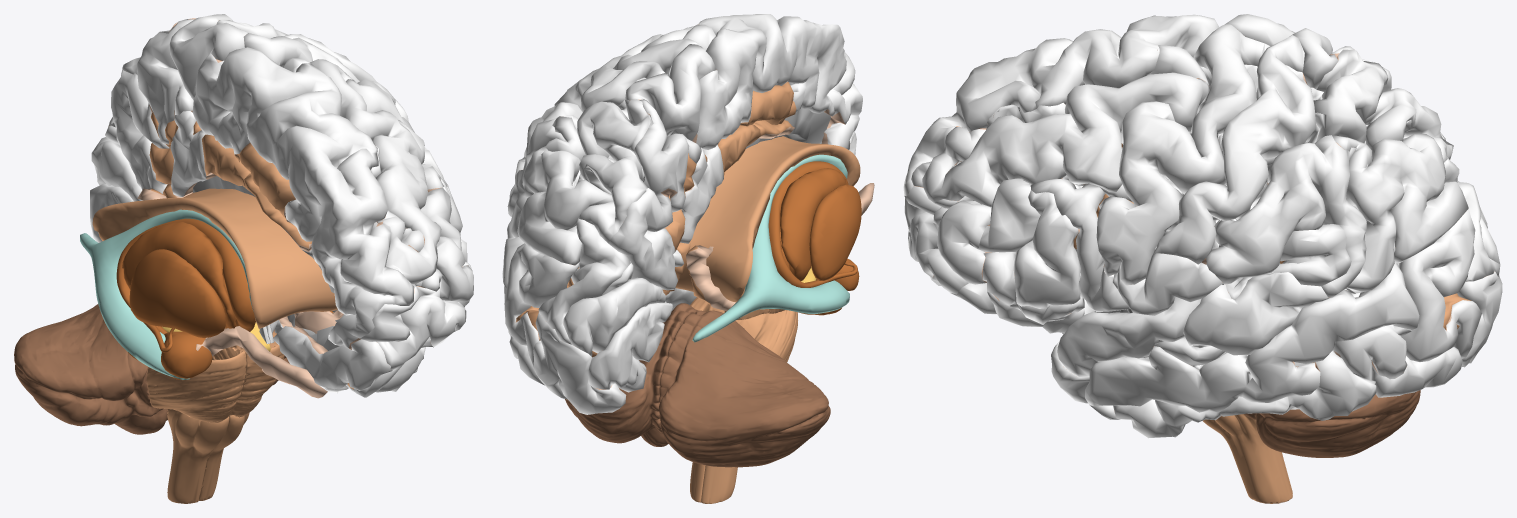
Rendered from brain.glb.
3 renders of one model, left to right at view 1: azimuth 30°, elevation 25°; view 2: azimuth 150°, elevation 25°; view 3: azimuth 270°, elevation 25°, orthographic. The views are drawn at different scales.
Parts seen in each view (by area): view 1: gyrus, Cerebellum.r.002, sulcus, Corpus callosum, Medial geniculate body, Putamen.r.001, Pons.r.002, Medulla oblongata.r.001, Caudate nucleus.r.001, Amygdaloid body.r.001, White matter of telencephalon.r.002; view 2: gyrus, Cerebellum.r.002, Corpus callosum, sulcus, Medial geniculate body, Putamen.r.001, Pons.r.002, Caudate nucleus.r.001, Medulla oblongata.r.001, White matter of telencephalon.r.002; view 3: gyrus, sulcus, Cerebellum.r.002, Medulla oblongata.r.001.
Boxes of the visible parts, box(x1,y1,x2,y2) form: gyrus: box(90, 14, 473, 397); Cerebellum.r.002: box(14, 304, 289, 434); sulcus: box(137, 58, 473, 398); Corpus callosum: box(92, 188, 337, 328); Medial geniculate body: box(80, 209, 252, 379); Putamen.r.001: box(129, 249, 225, 337); Pons.r.002: box(146, 331, 284, 422); Medulla oblongata.r.001: box(167, 409, 249, 503); Caudate nucleus.r.001: box(116, 218, 255, 352); Amygdaloid body.r.001: box(161, 331, 212, 378); White matter of telencephalon.r.002: box(192, 176, 339, 350); gyrus: box(502, 14, 862, 414); Cerebellum.r.002: box(565, 303, 830, 467); Corpus callosum: box(675, 136, 860, 302); sulcus: box(516, 24, 874, 357); Medial geniculate body: box(692, 154, 849, 342); Putamen.r.001: box(809, 184, 861, 280); Pons.r.002: box(690, 297, 797, 362); Caudate nucleus.r.001: box(768, 161, 857, 287); Medulla oblongata.r.001: box(690, 462, 737, 503); White matter of telencephalon.r.002: box(745, 108, 830, 148); gyrus: box(903, 14, 1502, 438); sulcus: box(935, 45, 1471, 369); Cerebellum.r.002: box(1244, 390, 1420, 457); Medulla oblongata.r.001: box(1203, 414, 1292, 503).
Size of the model in its own units: 0.1243 by 0.1609 by 0.1769.
